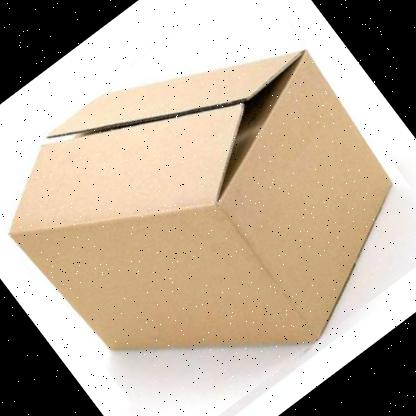box: (7, 49, 392, 352)
opened: (8, 50, 306, 237)
